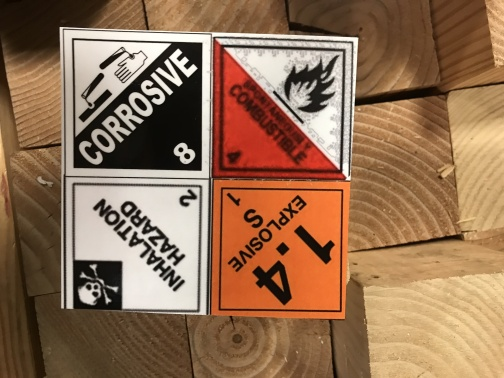Corrosive: (64, 29, 210, 178)
Explosive: (214, 179, 348, 320)
InhalationHazard: (65, 178, 207, 316)
SpontaneouslyCombustible: (212, 36, 351, 181)
